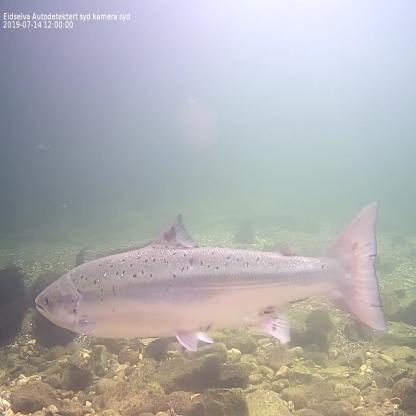salmon: (33, 194, 388, 354)
